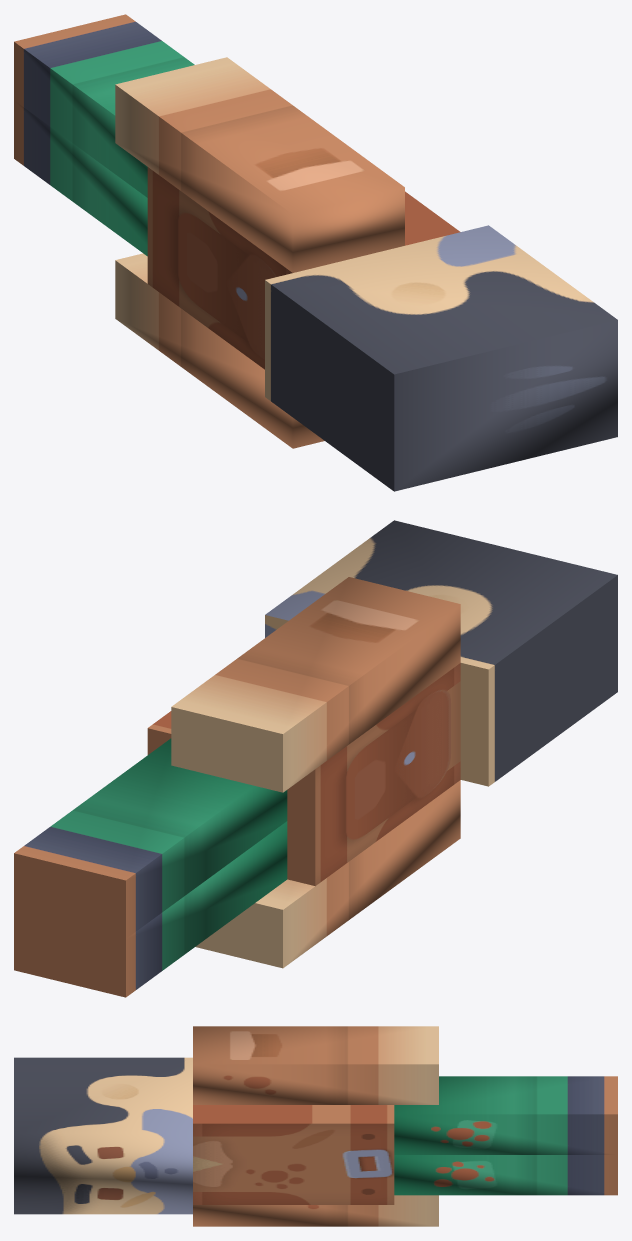
The model's file is pedestrian.glb.
3 views of the same model, one above another, from view 1: azimuth 30°, elevation 25°; view 2: azimuth 150°, elevation 25°; view 3: azimuth 270°, elevation 25° (orthographic). The views are drawn at different scales.
Visible parts, largest first — view 1: head, arm-left, torso, leg-left, arm-right, leg-right; view 2: head, arm-left, leg-left, torso, leg-right, arm-right; view 3: head, torso, arm-left, leg-left, leg-right, arm-right.
Boxes of the visible parts, x1,y1,x2,y2 form: head: [265, 225, 617, 491]; arm-left: [115, 57, 404, 272]; torso: [147, 167, 460, 369]; leg-left: [14, 14, 194, 197]; arm-right: [115, 253, 324, 448]; leg-right: [14, 100, 147, 256]; head: [265, 520, 617, 786]; arm-left: [171, 577, 460, 792]; leg-left: [14, 738, 287, 938]; torso: [147, 663, 460, 886]; leg-right: [14, 821, 287, 997]; arm-right: [195, 780, 460, 968]; head: [14, 1057, 192, 1214]; torso: [193, 1105, 394, 1204]; arm-left: [193, 1026, 438, 1104]; leg-left: [394, 1076, 617, 1154]; leg-right: [394, 1155, 617, 1195]; arm-right: [193, 1195, 438, 1226].
Bounding box in the file's own units: 1 × 1 × 3.38.
1 material, 1 textured.
